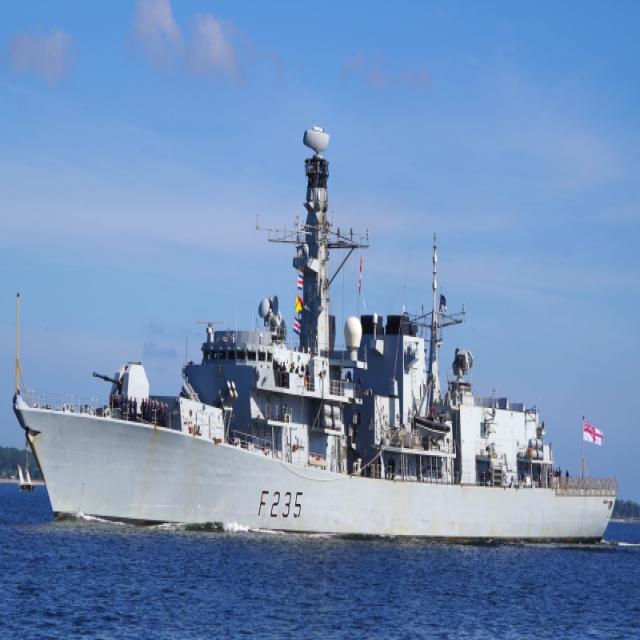Fragata: (11, 124, 618, 557)
